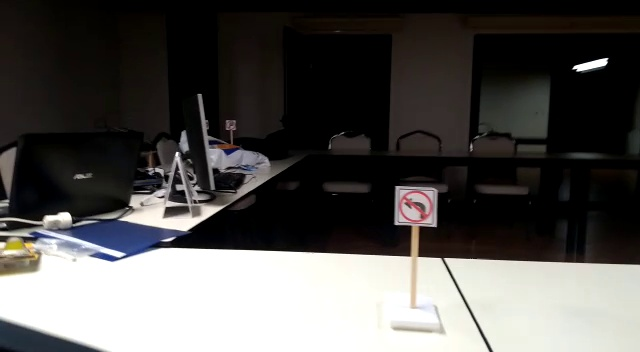sola_donulmez: (397, 187, 436, 226)
